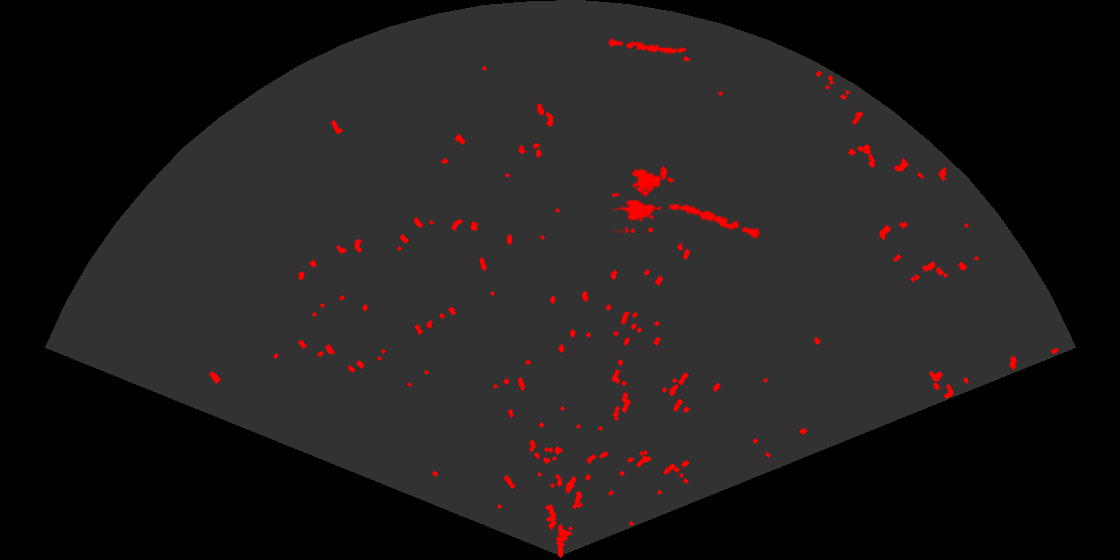cage: (612, 167, 663, 233)
chain: (667, 202, 768, 241), (605, 37, 688, 56)
